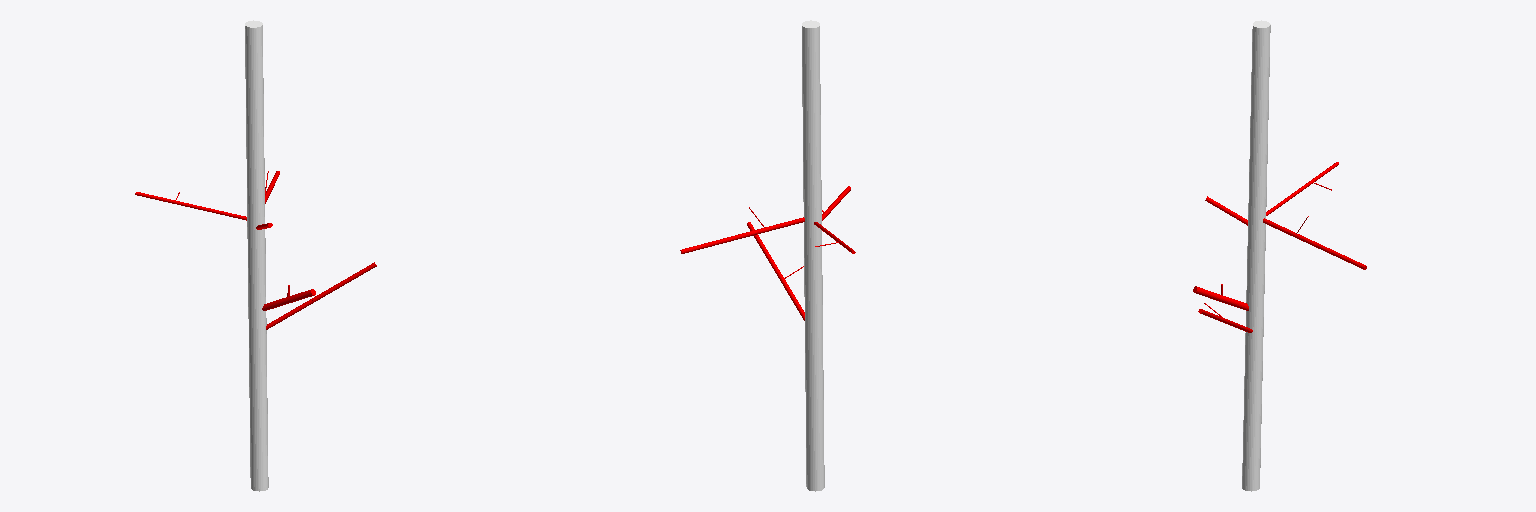
URDF robot description (tree_82.urdf):
<?xml version='1.0' encoding='UTF-8'?>
<robot name="tree_82.urdf">
  <link name="branch_0">
    <inertial>
      <origin xyz="0.0 0.0 0.0" rpy="0.0 -0.0 0.0"/>
      <mass value="0.1"/>
      <inertia ixx="0.001" ixy="0.0" ixz="0.0" iyy="0.001" iyz="0.0" izz="0.001"/>
    </inertial>
    <visual name="branch_0_visual">
      <geometry>
        <cylinder radius="0.17742251338189136" length="10.000595077275491"/>
      </geometry>
      <material name="branch_material"/>
      <origin xyz="-0.005801689203882264 0.10439353352508912 4.999204317235616" rpy="2.168404344971009e-19 0.020911204520337012 1.6263143940505302"/>
    </visual>
    <collision name="branch_0_collision">
      <geometry>
        <cylinder radius="0.17742251338189136" length="10.000595077275491"/>
      </geometry>
      <origin xyz="-0.005801689203882264 0.10439353352508912 4.999204317235616" rpy="2.168404344971009e-19 0.020911204520337012 1.6263143940505302"/>
    </collision>
  </link>
  <link name="branch_1">
    <inertial>
      <origin xyz="0.0 0.0 0.0" rpy="0.0 -0.0 0.0"/>
      <mass value="0.1"/>
      <inertia ixx="0.001" ixy="0.0" ixz="0.0" iyy="0.001" iyz="0.0" izz="0.001"/>
    </inertial>
    <visual name="branch_1_visual">
      <geometry>
        <cylinder radius="0.04735857393623066" length="1.1499611449206837"/>
      </geometry>
      <material name="semantic_material"/>
      <origin xyz="0.0 0.0 0.0" rpy="0.0 -0.0 0.0"/>
    </visual>
    <collision name="branch_1_collision">
      <geometry>
        <cylinder radius="0.04735857393623066" length="1.1499611449206837"/>
      </geometry>
      <origin xyz="0.0 0.0 0.0" rpy="0.0 -0.0 0.0"/>
    </collision>
  </link>
  <link name="branch_2">
    <inertial>
      <origin xyz="0.0 0.0 0.0" rpy="0.0 -0.0 0.0"/>
      <mass value="0.1"/>
      <inertia ixx="0.001" ixy="0.0" ixz="0.0" iyy="0.001" iyz="0.0" izz="0.001"/>
    </inertial>
    <visual name="branch_2_visual">
      <geometry>
        <cylinder radius="0.014257202056899032" length="0.14348201372055047"/>
      </geometry>
      <material name="semantic_material"/>
      <origin xyz="0.0 0.0 0.0" rpy="0.0 -0.0 0.0"/>
    </visual>
    <collision name="branch_2_collision">
      <geometry>
        <cylinder radius="0.014257202056899032" length="0.14348201372055047"/>
      </geometry>
      <origin xyz="0.0 0.0 0.0" rpy="0.0 -0.0 0.0"/>
    </collision>
  </link>
  <link name="branch_3">
    <inertial>
      <origin xyz="0.0 0.0 0.0" rpy="0.0 -0.0 0.0"/>
      <mass value="0.1"/>
      <inertia ixx="0.001" ixy="0.0" ixz="0.0" iyy="0.001" iyz="0.0" izz="0.001"/>
    </inertial>
    <visual name="branch_3_visual">
      <geometry>
        <cylinder radius="0.045607734442794326" length="2.728351154553866"/>
      </geometry>
      <material name="semantic_material"/>
      <origin xyz="0.0 0.0 0.0" rpy="0.0 -0.0 0.0"/>
    </visual>
    <collision name="branch_3_collision">
      <geometry>
        <cylinder radius="0.045607734442794326" length="2.728351154553866"/>
      </geometry>
      <origin xyz="0.0 0.0 0.0" rpy="0.0 -0.0 0.0"/>
    </collision>
  </link>
  <link name="branch_4">
    <inertial>
      <origin xyz="0.0 0.0 0.0" rpy="0.0 -0.0 0.0"/>
      <mass value="0.1"/>
      <inertia ixx="0.001" ixy="0.0" ixz="0.0" iyy="0.001" iyz="0.0" izz="0.001"/>
    </inertial>
    <visual name="branch_4_visual">
      <geometry>
        <cylinder radius="0.0102879983133017" length="0.6300132519692524"/>
      </geometry>
      <material name="semantic_material"/>
      <origin xyz="0.0 0.0 0.0" rpy="0.0 -0.0 0.0"/>
    </visual>
    <collision name="branch_4_collision">
      <geometry>
        <cylinder radius="0.0102879983133017" length="0.6300132519692524"/>
      </geometry>
      <origin xyz="0.0 0.0 0.0" rpy="0.0 -0.0 0.0"/>
    </collision>
  </link>
  <link name="branch_5">
    <inertial>
      <origin xyz="0.0 0.0 0.0" rpy="0.0 -0.0 0.0"/>
      <mass value="0.1"/>
      <inertia ixx="0.001" ixy="0.0" ixz="0.0" iyy="0.001" iyz="0.0" izz="0.001"/>
    </inertial>
    <visual name="branch_5_visual">
      <geometry>
        <cylinder radius="0.03646589589188736" length="2.449517353198706"/>
      </geometry>
      <material name="semantic_material"/>
      <origin xyz="0.0 0.0 0.0" rpy="0.0 -0.0 0.0"/>
    </visual>
    <collision name="branch_5_collision">
      <geometry>
        <cylinder radius="0.03646589589188736" length="2.449517353198706"/>
      </geometry>
      <origin xyz="0.0 0.0 0.0" rpy="0.0 -0.0 0.0"/>
    </collision>
  </link>
  <link name="branch_6">
    <inertial>
      <origin xyz="0.0 0.0 0.0" rpy="0.0 -0.0 0.0"/>
      <mass value="0.1"/>
      <inertia ixx="0.001" ixy="0.0" ixz="0.0" iyy="0.001" iyz="0.0" izz="0.001"/>
    </inertial>
    <visual name="branch_6_visual">
      <geometry>
        <cylinder radius="0.01" length="0.5157653652008675"/>
      </geometry>
      <material name="semantic_material"/>
      <origin xyz="0.0 0.0 0.0" rpy="0.0 -0.0 0.0"/>
    </visual>
    <collision name="branch_6_collision">
      <geometry>
        <cylinder radius="0.01" length="0.5157653652008675"/>
      </geometry>
      <origin xyz="0.0 0.0 0.0" rpy="0.0 -0.0 0.0"/>
    </collision>
  </link>
  <link name="branch_7">
    <inertial>
      <origin xyz="0.0 0.0 0.0" rpy="0.0 -0.0 0.0"/>
      <mass value="0.1"/>
      <inertia ixx="0.001" ixy="0.0" ixz="0.0" iyy="0.001" iyz="0.0" izz="0.001"/>
    </inertial>
    <visual name="branch_7_visual">
      <geometry>
        <cylinder radius="0.04630598979080113" length="2.7451614858633198"/>
      </geometry>
      <material name="semantic_material"/>
      <origin xyz="0.0 0.0 0.0" rpy="0.0 -0.0 0.0"/>
    </visual>
    <collision name="branch_7_collision">
      <geometry>
        <cylinder radius="0.04630598979080113" length="2.7451614858633198"/>
      </geometry>
      <origin xyz="0.0 0.0 0.0" rpy="0.0 -0.0 0.0"/>
    </collision>
  </link>
  <link name="branch_8">
    <inertial>
      <origin xyz="0.0 0.0 0.0" rpy="0.0 -0.0 0.0"/>
      <mass value="0.1"/>
      <inertia ixx="0.001" ixy="0.0" ixz="0.0" iyy="0.001" iyz="0.0" izz="0.001"/>
    </inertial>
    <visual name="branch_8_visual">
      <geometry>
        <cylinder radius="0.010267293665192865" length="0.6203986762079876"/>
      </geometry>
      <material name="semantic_material"/>
      <origin xyz="0.0 0.0 0.0" rpy="0.0 -0.0 0.0"/>
    </visual>
    <collision name="branch_8_collision">
      <geometry>
        <cylinder radius="0.010267293665192865" length="0.6203986762079876"/>
      </geometry>
      <origin xyz="0.0 0.0 0.0" rpy="0.0 -0.0 0.0"/>
    </collision>
  </link>
  <link name="branch_9">
    <inertial>
      <origin xyz="0.0 0.0 0.0" rpy="0.0 -0.0 0.0"/>
      <mass value="0.1"/>
      <inertia ixx="0.001" ixy="0.0" ixz="0.0" iyy="0.001" iyz="0.0" izz="0.001"/>
    </inertial>
    <visual name="branch_9_visual">
      <geometry>
        <cylinder radius="0.06767288827149465" length="1.5010595686251416"/>
      </geometry>
      <material name="semantic_material"/>
      <origin xyz="0.0 0.0 0.0" rpy="0.0 -0.0 0.0"/>
    </visual>
    <collision name="branch_9_collision">
      <geometry>
        <cylinder radius="0.06767288827149465" length="1.5010595686251416"/>
      </geometry>
      <origin xyz="0.0 0.0 0.0" rpy="0.0 -0.0 0.0"/>
    </collision>
  </link>
  <link name="branch_10">
    <inertial>
      <origin xyz="0.0 0.0 0.0" rpy="0.0 -0.0 0.0"/>
      <mass value="0.1"/>
      <inertia ixx="0.001" ixy="0.0" ixz="0.0" iyy="0.001" iyz="0.0" izz="0.001"/>
    </inertial>
    <visual name="branch_10_visual">
      <geometry>
        <cylinder radius="0.02383360100932007" length="0.31298138447683244"/>
      </geometry>
      <material name="semantic_material"/>
      <origin xyz="0.0 0.0 0.0" rpy="0.0 -0.0 0.0"/>
    </visual>
    <collision name="branch_10_collision">
      <geometry>
        <cylinder radius="0.02383360100932007" length="0.31298138447683244"/>
      </geometry>
      <origin xyz="0.0 0.0 0.0" rpy="0.0 -0.0 0.0"/>
    </collision>
  </link>
  <joint name="joint_0_1" type="fixed">
    <parent link="branch_0"/>
    <child link="branch_1"/>
    <axis xyz="1. 0. 0."/>
    <origin xyz="-0.13233189523892305 -0.3788585268652606 5.8599529619942095" rpy="0.013566943336114273 1.0962667905836332 -1.8041288716757498"/>
  </joint>
  <joint name="joint_0_3" type="fixed">
    <parent link="branch_0"/>
    <child link="branch_3"/>
    <axis xyz="1. 0. 0."/>
    <origin xyz="1.0321093365464604 -0.45774012993107693 4.059866974430947" rpy="-0.03431965722844752 1.019895761842474 -0.5113208703311308"/>
  </joint>
  <joint name="joint_0_5" type="fixed">
    <parent link="branch_0"/>
    <child link="branch_5"/>
    <axis xyz="1. 0. 0."/>
    <origin xyz="-0.9219935399284872 0.9105132164923214 5.951304281634648" rpy="0.09486982647104598 1.4109149464055932 2.525451689656349"/>
  </joint>
  <joint name="joint_0_7" type="fixed">
    <parent link="branch_0"/>
    <child link="branch_7"/>
    <axis xyz="1. 0. 0."/>
    <origin xyz="0.8542723182418573 1.1810532329312744 5.689212108405858" rpy="-3.0079243515700793 1.465190603664802 -2.1189293767295783"/>
  </joint>
  <joint name="joint_0_9" type="fixed">
    <parent link="branch_0"/>
    <child link="branch_9"/>
    <axis xyz="1. 0. 0."/>
    <origin xyz="0.29608232965660397 -0.5060365045298367 4.193949930229448" rpy="-0.017534903403868318 1.070737224426301 -1.1169702202992604"/>
  </joint>
  <joint name="joint_1_2" type="fixed">
    <parent link="branch_0"/>
    <child link="branch_2"/>
    <axis xyz="1. 0. 0."/>
    <origin xyz="-0.031510297399348255 -0.24594098136776865 5.799991116120045" rpy="1.1654669006614187 0.3568885766190098 0.9508587309561399"/>
  </joint>
  <joint name="joint_3_4" type="fixed">
    <parent link="branch_0"/>
    <child link="branch_4"/>
    <axis xyz="1. 0. 0."/>
    <origin xyz="0.8249208025654762 -0.6717372289741943 4.160860781237148" rpy="-1.0902871066599726 0.5113170857129312 2.7629480519800813"/>
  </joint>
  <joint name="joint_5_6" type="fixed">
    <parent link="branch_0"/>
    <child link="branch_6"/>
    <axis xyz="1. 0. 0."/>
    <origin xyz="-1.0748256676003283 1.3829473880771894 6.009939808316617" rpy="-1.6063935533514158 0.15932403651329285 -0.7075077029035529"/>
  </joint>
  <joint name="joint_7_8" type="fixed">
    <parent link="branch_0"/>
    <child link="branch_8"/>
    <axis xyz="1. 0. 0."/>
    <origin xyz="0.7246200517584479 0.9964632733282102 5.989409750652715" rpy="-0.06841187859163053 -0.5812560561491857 -2.2217446567909866"/>
  </joint>
  <joint name="joint_9_10" type="fixed">
    <parent link="branch_0"/>
    <child link="branch_10"/>
    <axis xyz="1. 0. 0."/>
    <origin xyz="0.3361104209940341 -0.5638365975376568 4.3857281263994645" rpy="0.06006842850749885 -0.026635784927322582 2.0101543522749443"/>
  </joint>
  <material name="branch_material">
    <color rgba="1. 1. 1. 1."/>
  </material>
  <material name="semantic_material">
    <color rgba="1. 0. 0. 1."/>
  </material>
</robot>

--- What the picture shows (computed from the rendered views, not written in the file) ---
The picture shows the robot from 3 angles, left to right: view 1: azimuth 30°, elevation 25°; view 2: azimuth 150°, elevation 25°; view 3: azimuth 270°, elevation 25°; orthographic projection.
Robot: tree_82.urdf — 11 links, 10 joints (10 fixed); root link branch_0; default pose: all joints at 0.
Visible links, largest first — view 1: branch_0, branch_3; view 2: branch_0, branch_7; view 3: branch_0, branch_7.
Boxes of the visible links, x1,y1,x2,y2 form: branch_0: (245,20,268,491); branch_3: (266,262,376,329); branch_0: (802,20,824,491); branch_7: (680,217,804,253); branch_0: (1242,20,1270,491); branch_7: (1263,218,1366,269).
Size in the robot's own frame: 3.96 by 3.4 by 10.01 metres.
Geometry: primitives only (box / cylinder / sphere), no mesh files.
